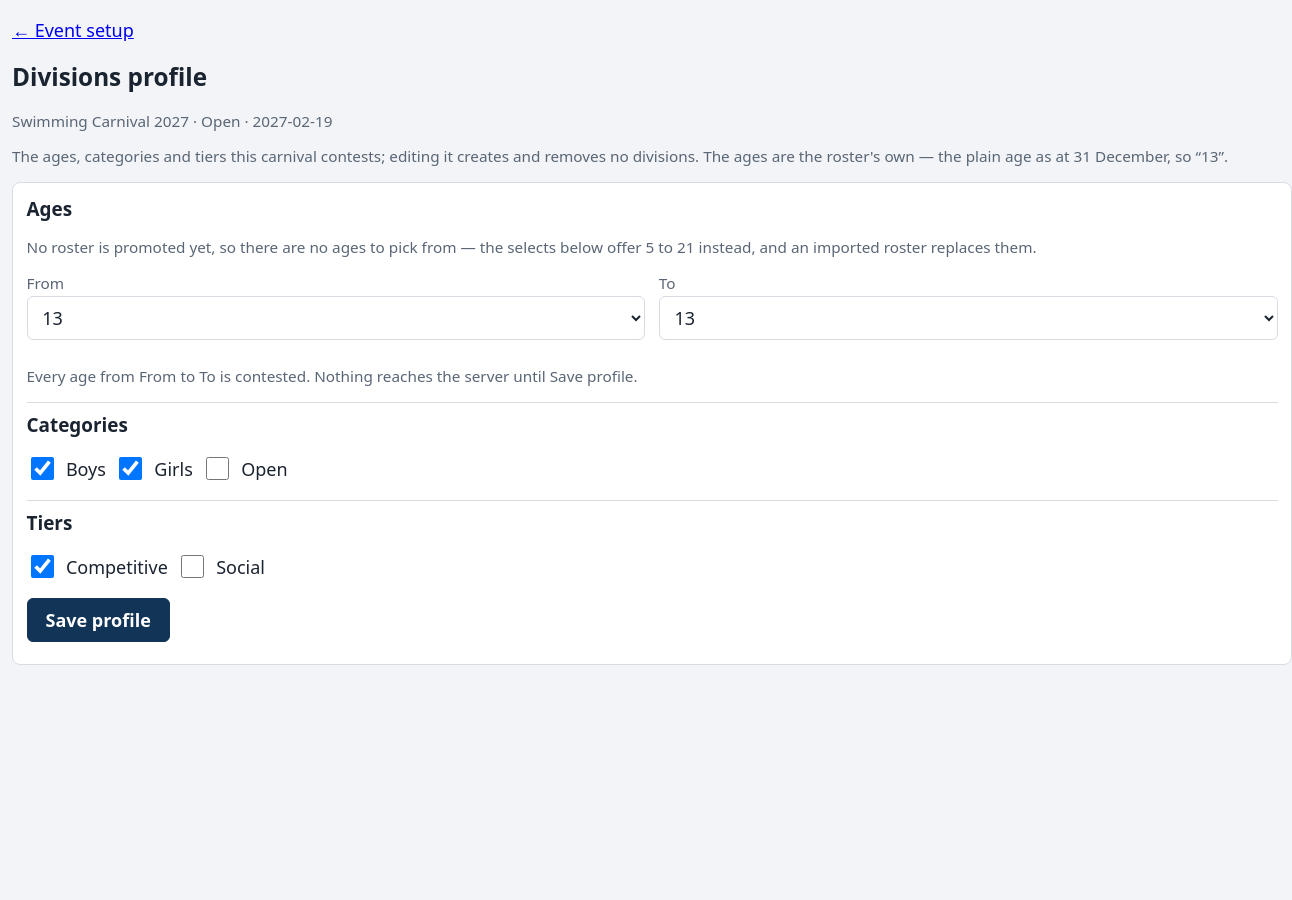
Scenario: DivisionsProfileScreen › renders a refusal as a sentence naming the age and what a code must be
Click the button "Save profile".
click(98, 620)  # box [26,598,170,642]
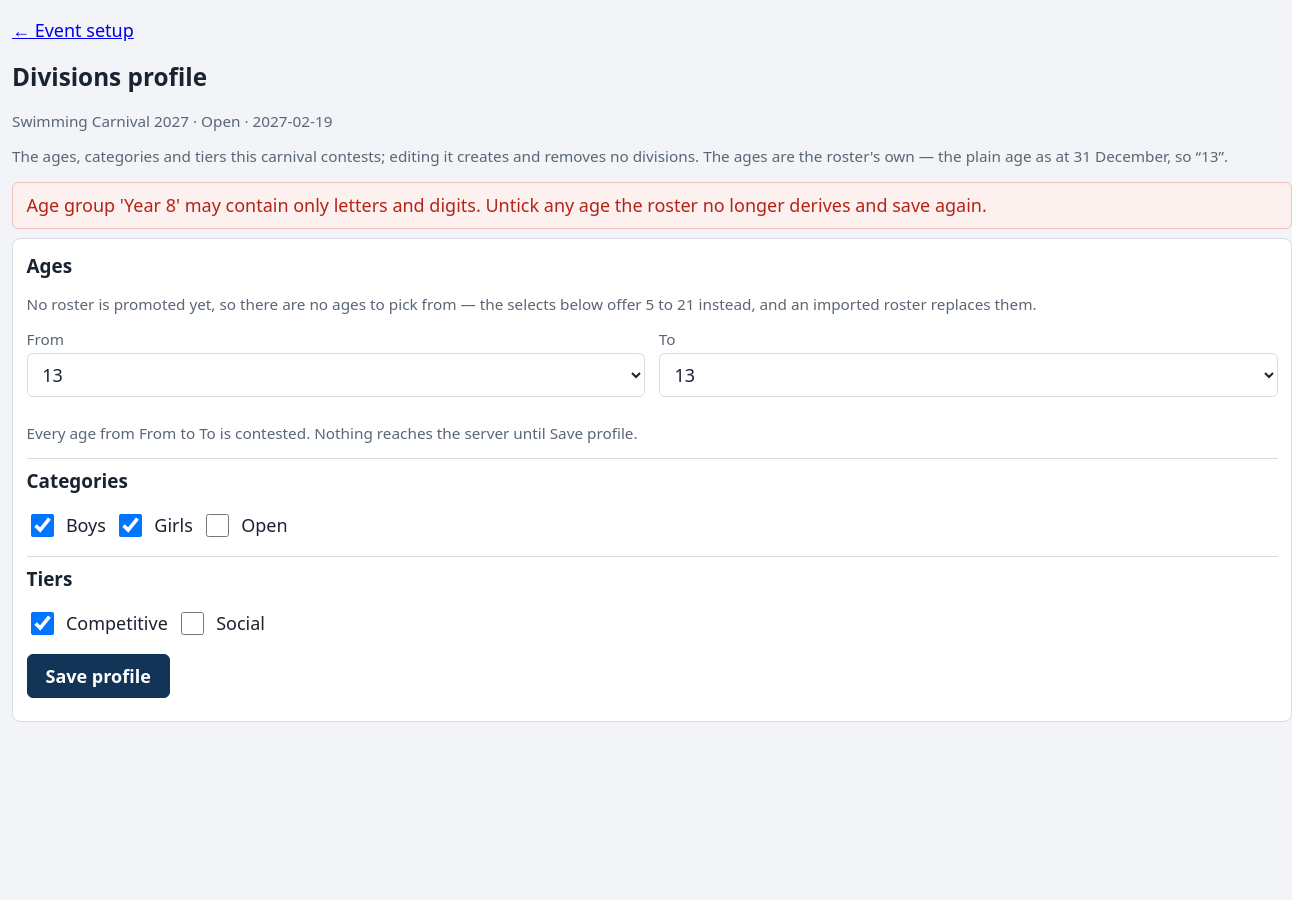
Expected: the message shows "Age group 'Year 8'", [26,193,987,217]
Expected: the message shows "Untick any age the roster no longer derives", [26,193,987,217]
